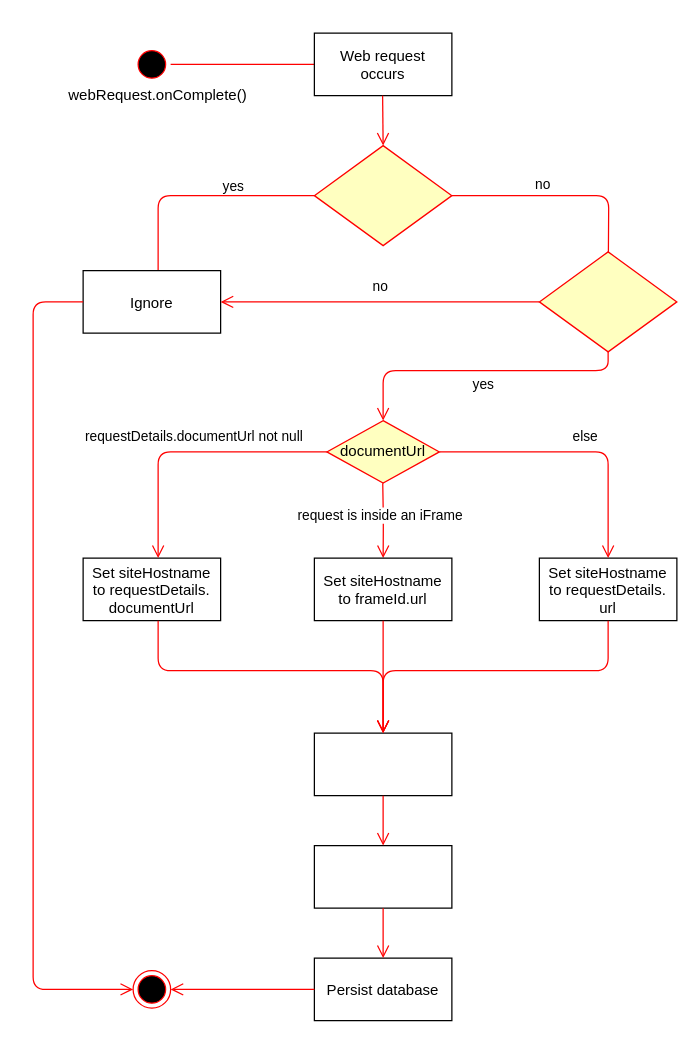
The diagram is 699 pixels wide and 1043 high, and some of its shapes have lost their labels. Here are the shapes that lost their labels. From the top down, the centre of each, then its label:
(382,195): Request loaded from cache
(607,301): Database connection exists
(382,764): Classify request by hostname
(382,876): Record request to database
